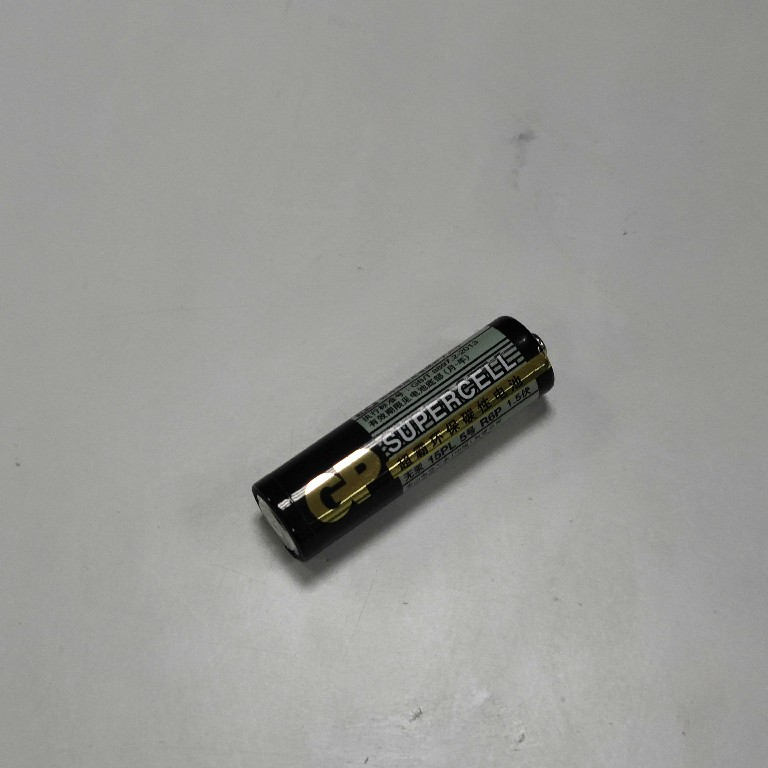charge: (246, 309, 562, 562)
